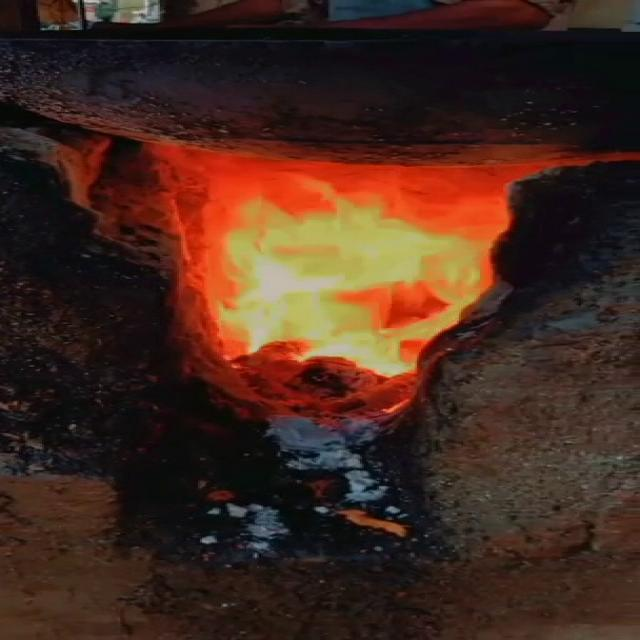Fire: (232, 201, 444, 375)
